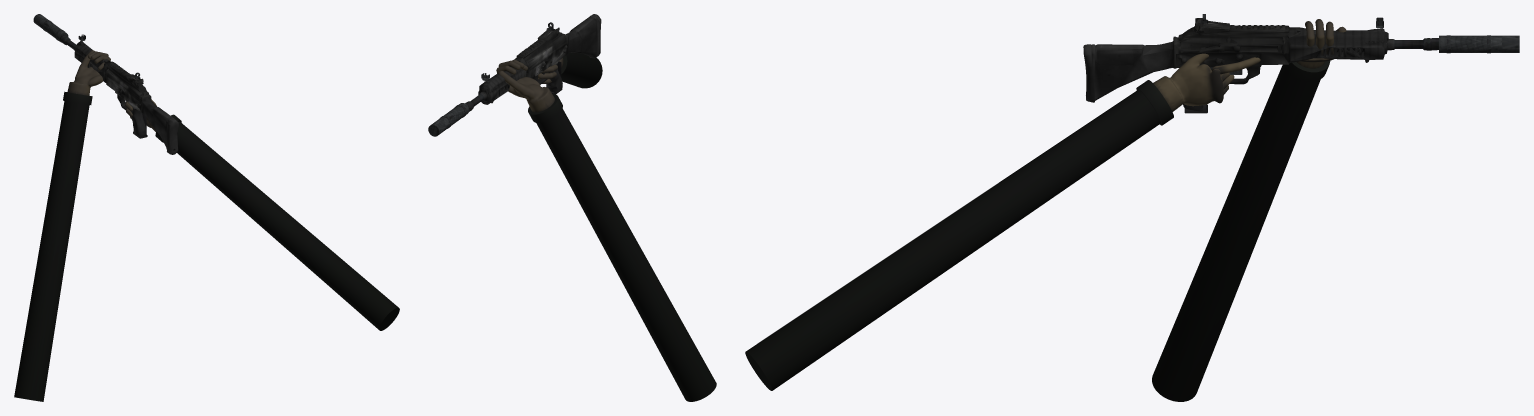
Rendered from vesper.glb.
The picture shows the model from 3 angles, left to right: view 1: azimuth 30°, elevation 25°; view 2: azimuth 150°, elevation 25°; view 3: azimuth 270°, elevation 25°; orthographic projection. The views are drawn at different scales.
Visible parts, largest first — view 1: arms_L_vesper, arms_R_vesper, base, dressing; view 2: arms_L_vesper, base, arms_R_vesper, dressing; view 3: arms_R_vesper, arms_L_vesper, base, dressing.
Boxes of the visible parts, x1,y1,x2,y2 form: arms_L_vesper: (14, 50, 110, 401); arms_R_vesper: (125, 99, 399, 330); base: (59, 34, 179, 154); dressing: (33, 14, 140, 79); arms_L_vesper: (496, 59, 716, 401); base: (465, 14, 601, 111); arms_R_vesper: (538, 52, 602, 88); dressing: (428, 22, 553, 136); arms_R_vesper: (745, 53, 1260, 390); arms_L_vesper: (1152, 19, 1346, 401); base: (1083, 18, 1438, 111); dressing: (1200, 14, 1519, 74).
Size of the model in its own units: 0.9185 by 1.03 by 1.53.
Materials: 6 (4 with a texture image).
